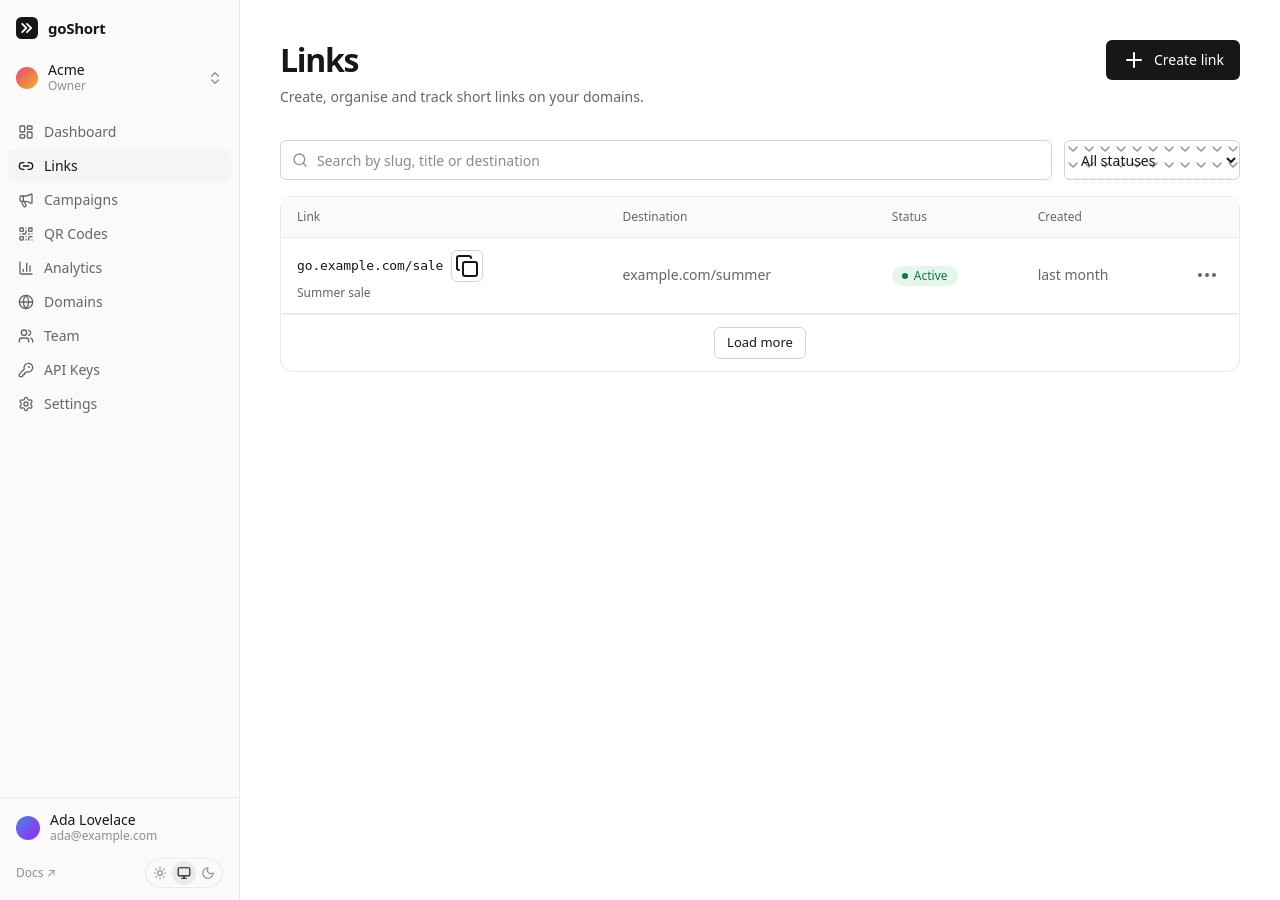
Test: links list › loads more with the cursor
Click the button "Load more" at [760, 342], box [714,326,806,358]
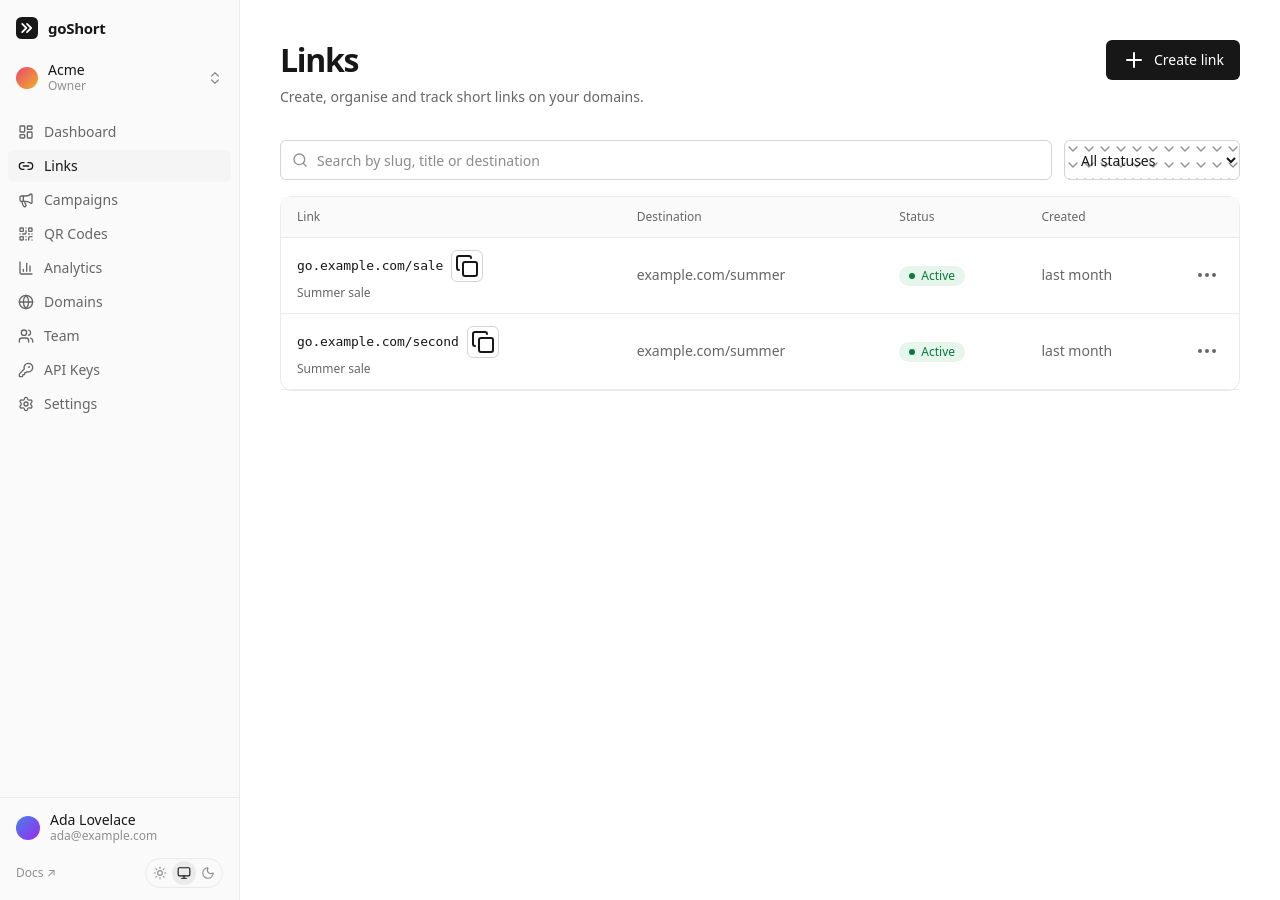
Result: the text "go.example.com/second" is shown at [297,332,459,352]
Result: the button "Load more" is gone
